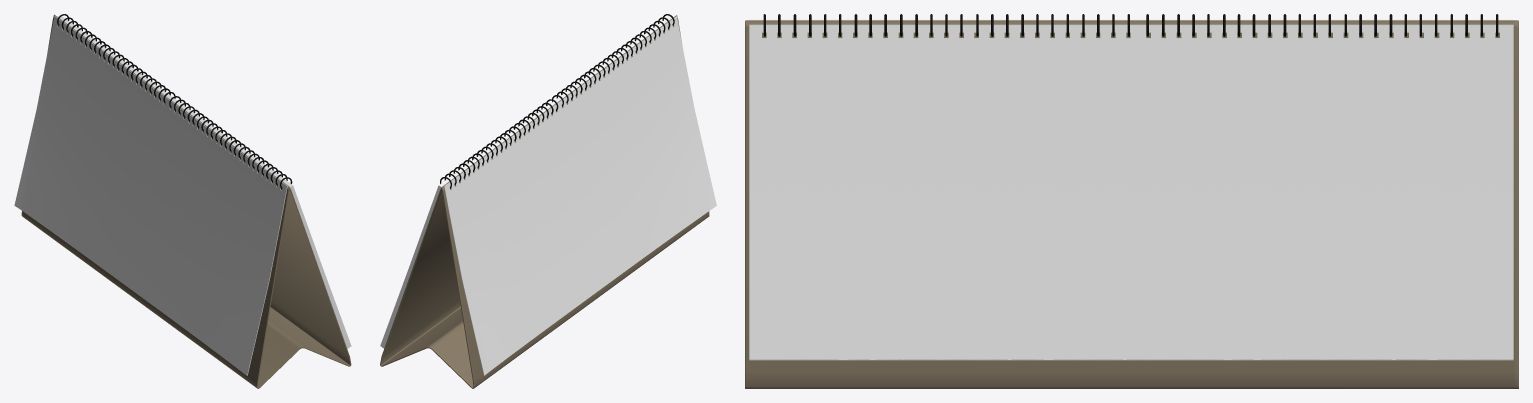
The model's file is deks_calendar.fbx.
The picture shows the model from 3 angles, left to right: view 1: azimuth 30°, elevation 25°; view 2: azimuth 150°, elevation 25°; view 3: azimuth 270°, elevation 25°; orthographic projection. The views are drawn at different scales.
Parts seen in each view (by area): view 1: arch20_071_06, arch20_071_05, arch20_071_07, arch20_071_04; view 2: arch20_071_06, arch20_071_05, arch20_071_07, arch20_071_04; view 3: arch20_071_04, arch20_071_05, arch20_071_07, arch20_071_06.
Part boxes in pixels (x1=…): arch20_071_06: x1=14, y1=16, x2=287, y2=375; arch20_071_05: x1=21, y1=14, x2=351, y2=388; arch20_071_07: x1=57, y1=14, x2=292, y2=188; arch20_071_04: x1=58, y1=15, x2=351, y2=348; arch20_071_06: x1=444, y1=16, x2=716, y2=375; arch20_071_05: x1=380, y1=15, x2=709, y2=388; arch20_071_07: x1=440, y1=14, x2=674, y2=188; arch20_071_04: x1=380, y1=16, x2=673, y2=348; arch20_071_04: x1=749, y1=24, x2=1513, y2=360; arch20_071_05: x1=745, y1=20, x2=1518, y2=388; arch20_071_07: x1=763, y1=14, x2=1498, y2=36; arch20_071_06: x1=749, y1=19, x2=1513, y2=20.
Size of the model in its own units: 8.22 by 14.96 by 32.07.
